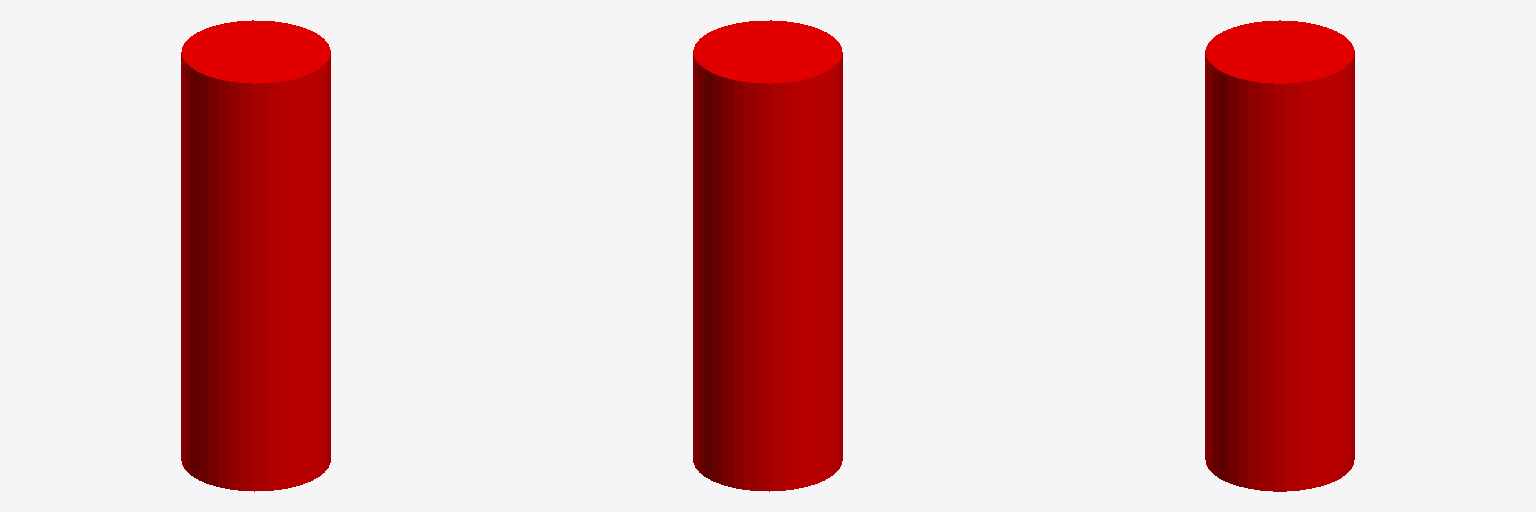
URDF robot description (Large_Long_Circle_Red):
<?xml version="1.0"?>
<robot name="Large_Long_Circle_Red">
    <link name="Large_Long_Circle_Red">
        <visual>
            <geometry>
                <mesh filename="../mesh/factory_insertion/Large_Long_Circle_Red.obj" scale="0.001 0.001 0.001"/>
            </geometry>
            <material name="Red">
              <color rgba="1.0 0 0 0"/>
            </material>
        </visual>
        <collision>
            <geometry>
                <mesh filename="../mesh/factory_insertion/Large_Long_Circle_Red.obj" scale="0.001 0.001 0.001"/>
            </geometry>
            <sdf resolution="512"/>
        </collision>
    </link>
</robot>

--- What the picture shows (computed from the rendered views, not written in the file) ---
The picture shows the robot from 3 angles, left to right: view 1: azimuth 30°, elevation 25°; view 2: azimuth 150°, elevation 25°; view 3: azimuth 270°, elevation 25°; orthographic projection.
Robot: Large_Long_Circle_Red — 1 links, 0 joints (none); root link Large_Long_Circle_Red; default pose: all joints at 0.
Visible links, largest first — view 1: Large_Long_Circle_Red; view 2: Large_Long_Circle_Red; view 3: Large_Long_Circle_Red.
Boxes of the visible links, bbox=[...] form: Large_Long_Circle_Red: bbox=[181, 20, 330, 491]; Large_Long_Circle_Red: bbox=[693, 20, 842, 491]; Large_Long_Circle_Red: bbox=[1205, 20, 1354, 491].
Bounding box of the posed robot: 0.0497 × 0.0498 × 0.15 m (x, y, z).
1 mesh visuals loaded from 1 distinct referenced files (1 OBJ).
